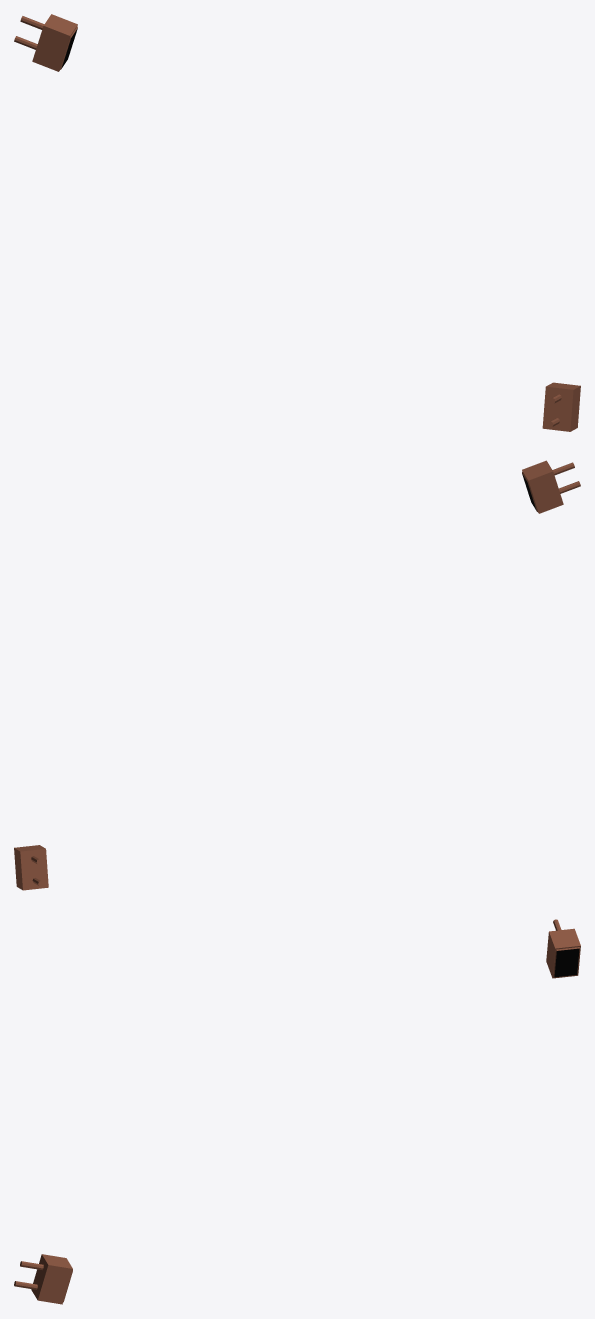
Rendered from SPEAKER.glb.
The picture shows the model from 3 angles, top to bottom: view 1: azimuth 30°, elevation 25°; view 2: azimuth 150°, elevation 25°; view 3: azimuth 330°, elevation 25°; orthographic projection. The views are drawn at different scales.
Visible parts, largest first — view 1: Cube.031, Cube.030; view 2: Cube.030, Cube.031; view 3: Cube.030, Cube.031.
Part boxes in pixels (x1,y1,x2,y2): Cube.031: [14, 14, 77, 71]; Cube.030: [542, 382, 580, 431]; Cube.030: [522, 460, 580, 513]; Cube.031: [14, 845, 48, 890]; Cube.030: [14, 1254, 72, 1304]; Cube.031: [546, 919, 580, 978].
Bounding box in the file's own units: 48.72 × 48.57 × 659.
